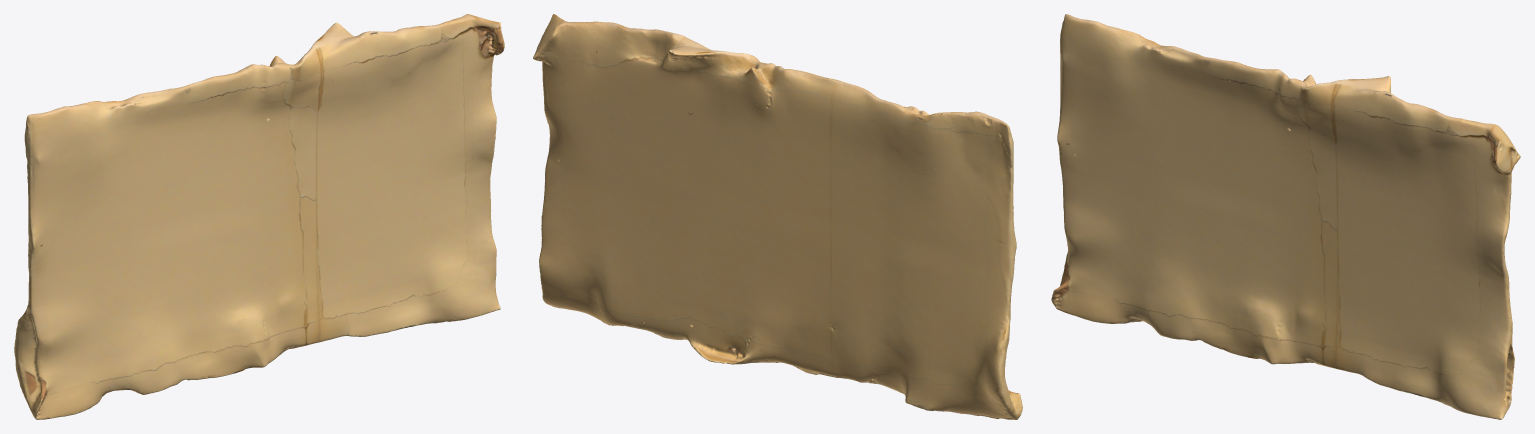
Rendered from torn_and_old_paper_0902041629_texture.fbx.
The picture shows the model from 3 angles, left to right: view 1: azimuth 30°, elevation 25°; view 2: azimuth 150°, elevation 25°; view 3: azimuth 330°, elevation 25°; orthographic projection. The views are drawn at different scales.
Visible parts, largest first — view 1: Mesh_0; view 2: Mesh_0; view 3: Mesh_0.
Part boxes in pixels (x1,y1,x2,y2): Mesh_0: (14,14,504,419); Mesh_0: (533,14,1022,419); Mesh_0: (1051,14,1520,419).
Bounding box in the file's own units: 200 × 125 × 21.55.
Materials: 1 (1 with a texture image).
